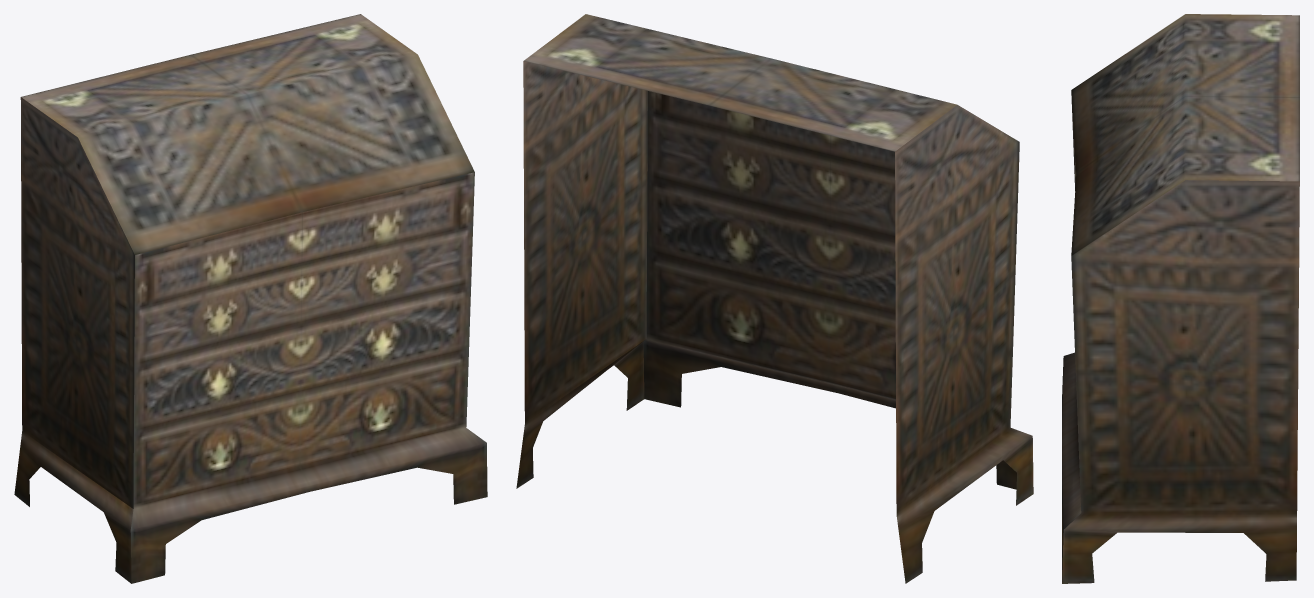
Rendered from cabinet_fancy_low.fbx.
3 views of the same model, side by side, from view 1: azimuth 30°, elevation 25°; view 2: azimuth 150°, elevation 25°; view 3: azimuth 270°, elevation 25° (orthographic). The views are drawn at different scales.
Visible parts, largest first — view 1: cabinet_fancy_low_mesh; view 2: cabinet_fancy_low_mesh; view 3: cabinet_fancy_low_mesh.
Part boxes in pixels (bbox=[...]): cabinet_fancy_low_mesh: bbox=[14, 14, 487, 583]; cabinet_fancy_low_mesh: bbox=[516, 14, 1033, 583]; cabinet_fancy_low_mesh: bbox=[1062, 14, 1299, 583].
Size of the model in its own units: 592 by 635 by 342.
Materials: 1 (1 with a texture image).
